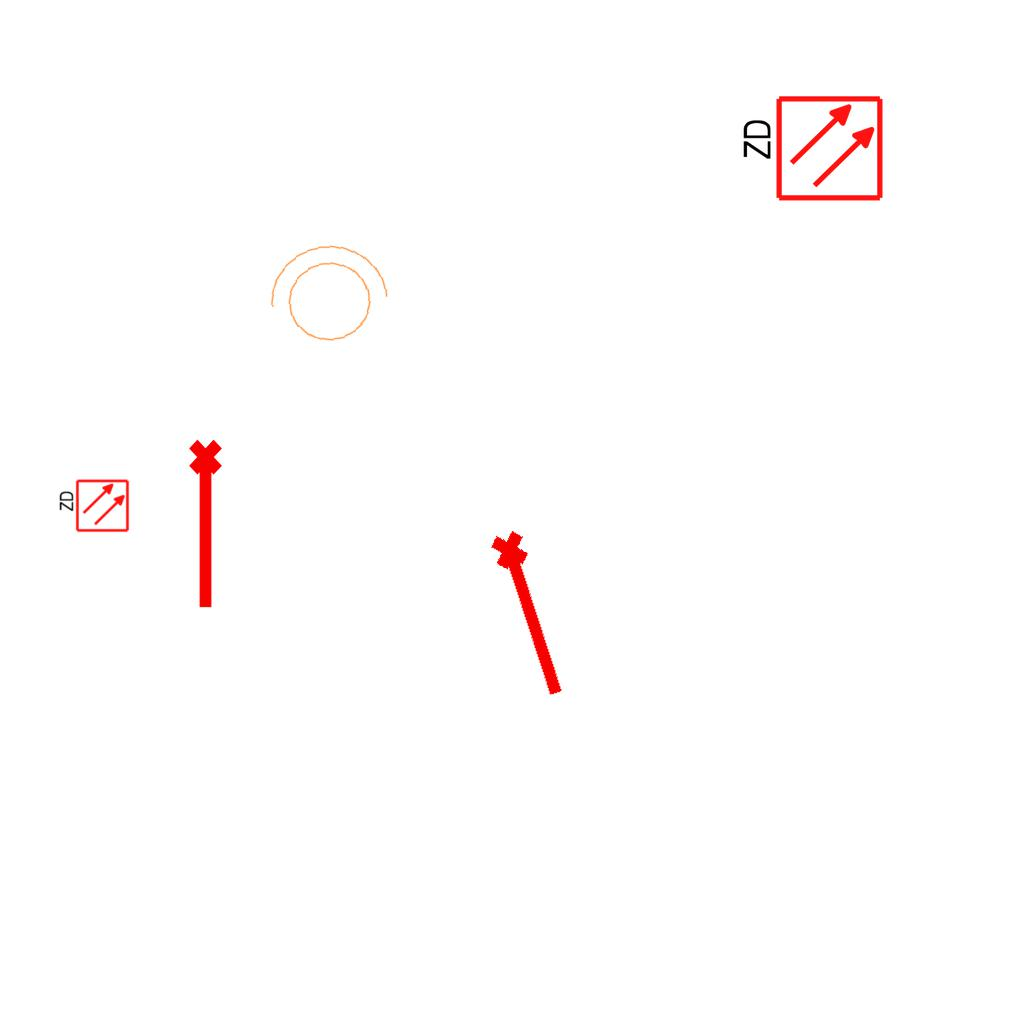ASR_Ansaugoeffnung: (483, 523, 583, 705), (185, 437, 231, 613)
Scheinwerfer_fuer_Alarmbeleuchtung: (255, 235, 397, 359)
ZD_Melder_in_Zwischendecke_mit_Revisionsoeffnung_mind_40_x_40_cm: (736, 93, 885, 207), (56, 478, 130, 535)
